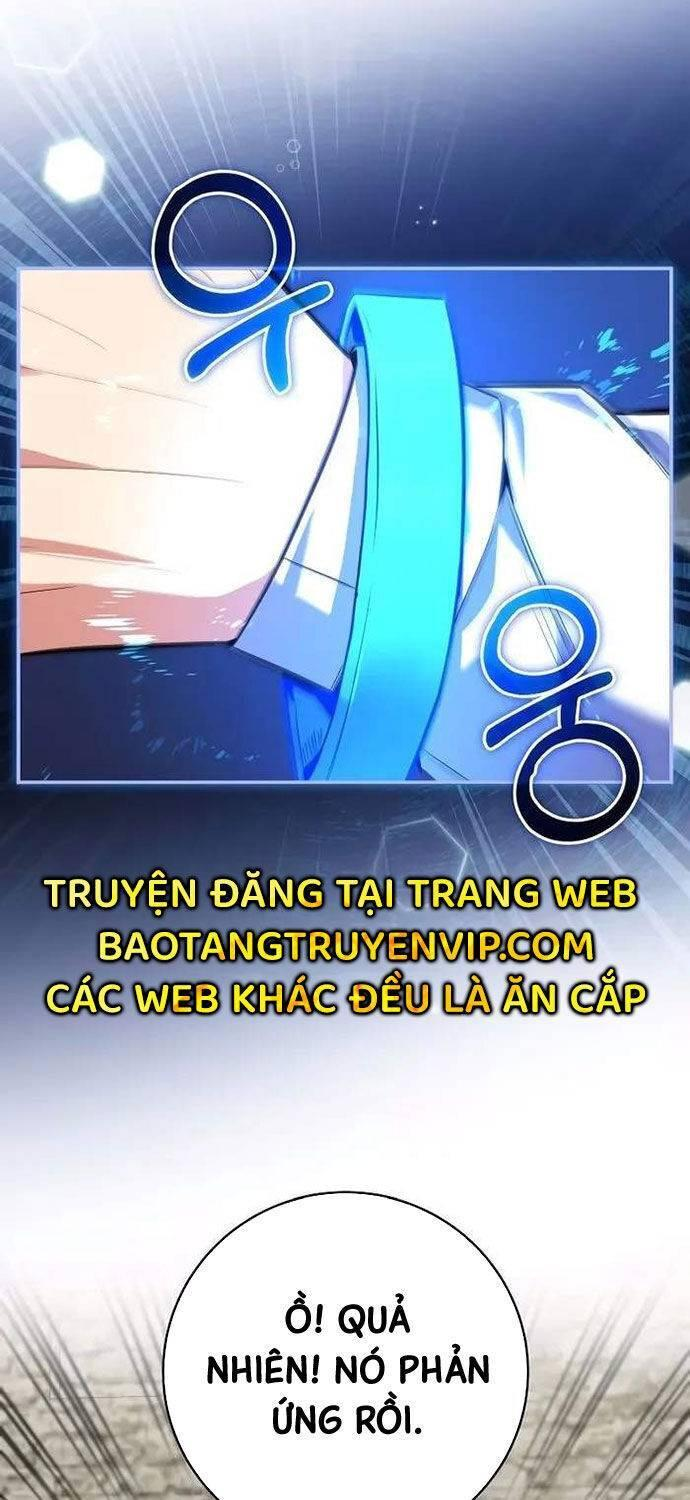quangcao: (44, 870, 650, 1024)
